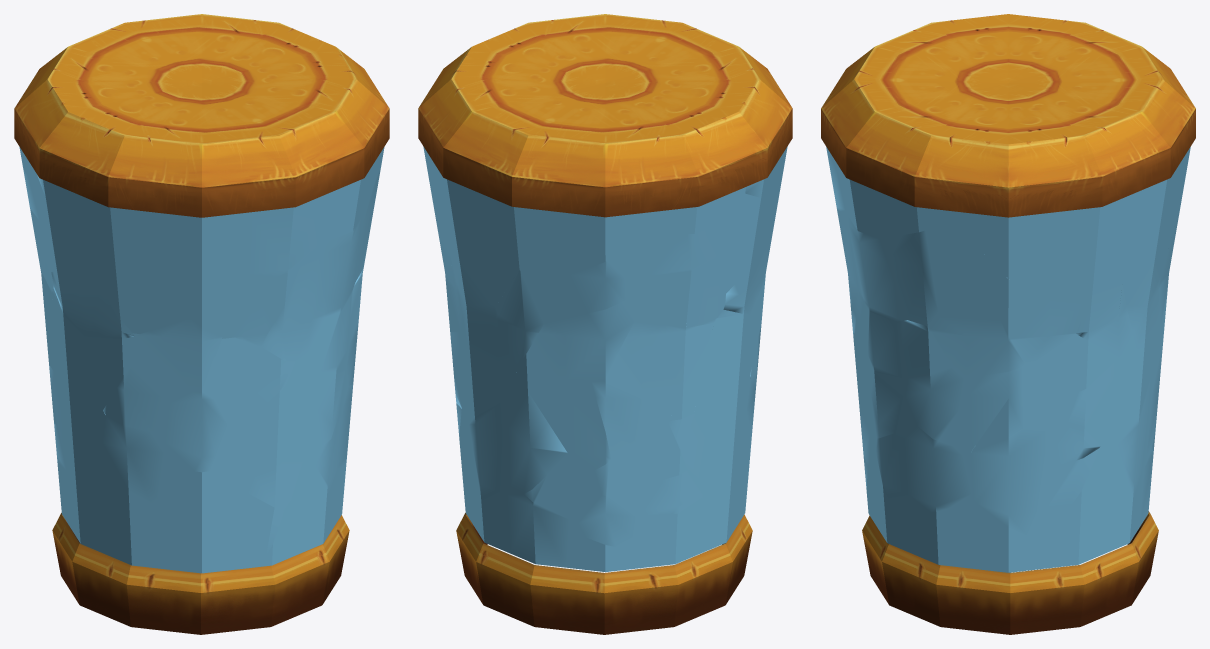
Rendered from TankCrushLid_03anim.fbx.
3 renders of one model, left to right at view 1: azimuth 30°, elevation 25°; view 2: azimuth 150°, elevation 25°; view 3: azimuth 270°, elevation 25°, orthographic.
Visible parts, largest first — view 1: tankCrushLid_03:glass, tankCrushLid_03:Tank_lid, tankCrushLid_03:Tank_base; view 2: tankCrushLid_03:glass, tankCrushLid_03:Tank_lid, tankCrushLid_03:Tank_base; view 3: tankCrushLid_03:glass, tankCrushLid_03:Tank_lid, tankCrushLid_03:Tank_base.
Boxes of the visible parts, <box> form: tankCrushLid_03:glass: <box>19,147,384,573</box>; tankCrushLid_03:Tank_lid: <box>14,14,389,217</box>; tankCrushLid_03:Tank_base: <box>52,513,349,634</box>; tankCrushLid_03:glass: <box>423,146,787,571</box>; tankCrushLid_03:Tank_lid: <box>418,14,792,217</box>; tankCrushLid_03:Tank_base: <box>456,513,752,634</box>; tankCrushLid_03:glass: <box>826,147,1190,572</box>; tankCrushLid_03:Tank_lid: <box>821,14,1195,217</box>; tankCrushLid_03:Tank_base: <box>862,511,1158,634</box>.
Bounding box in the file's own units: 6.48 × 9.47 × 6.48.
